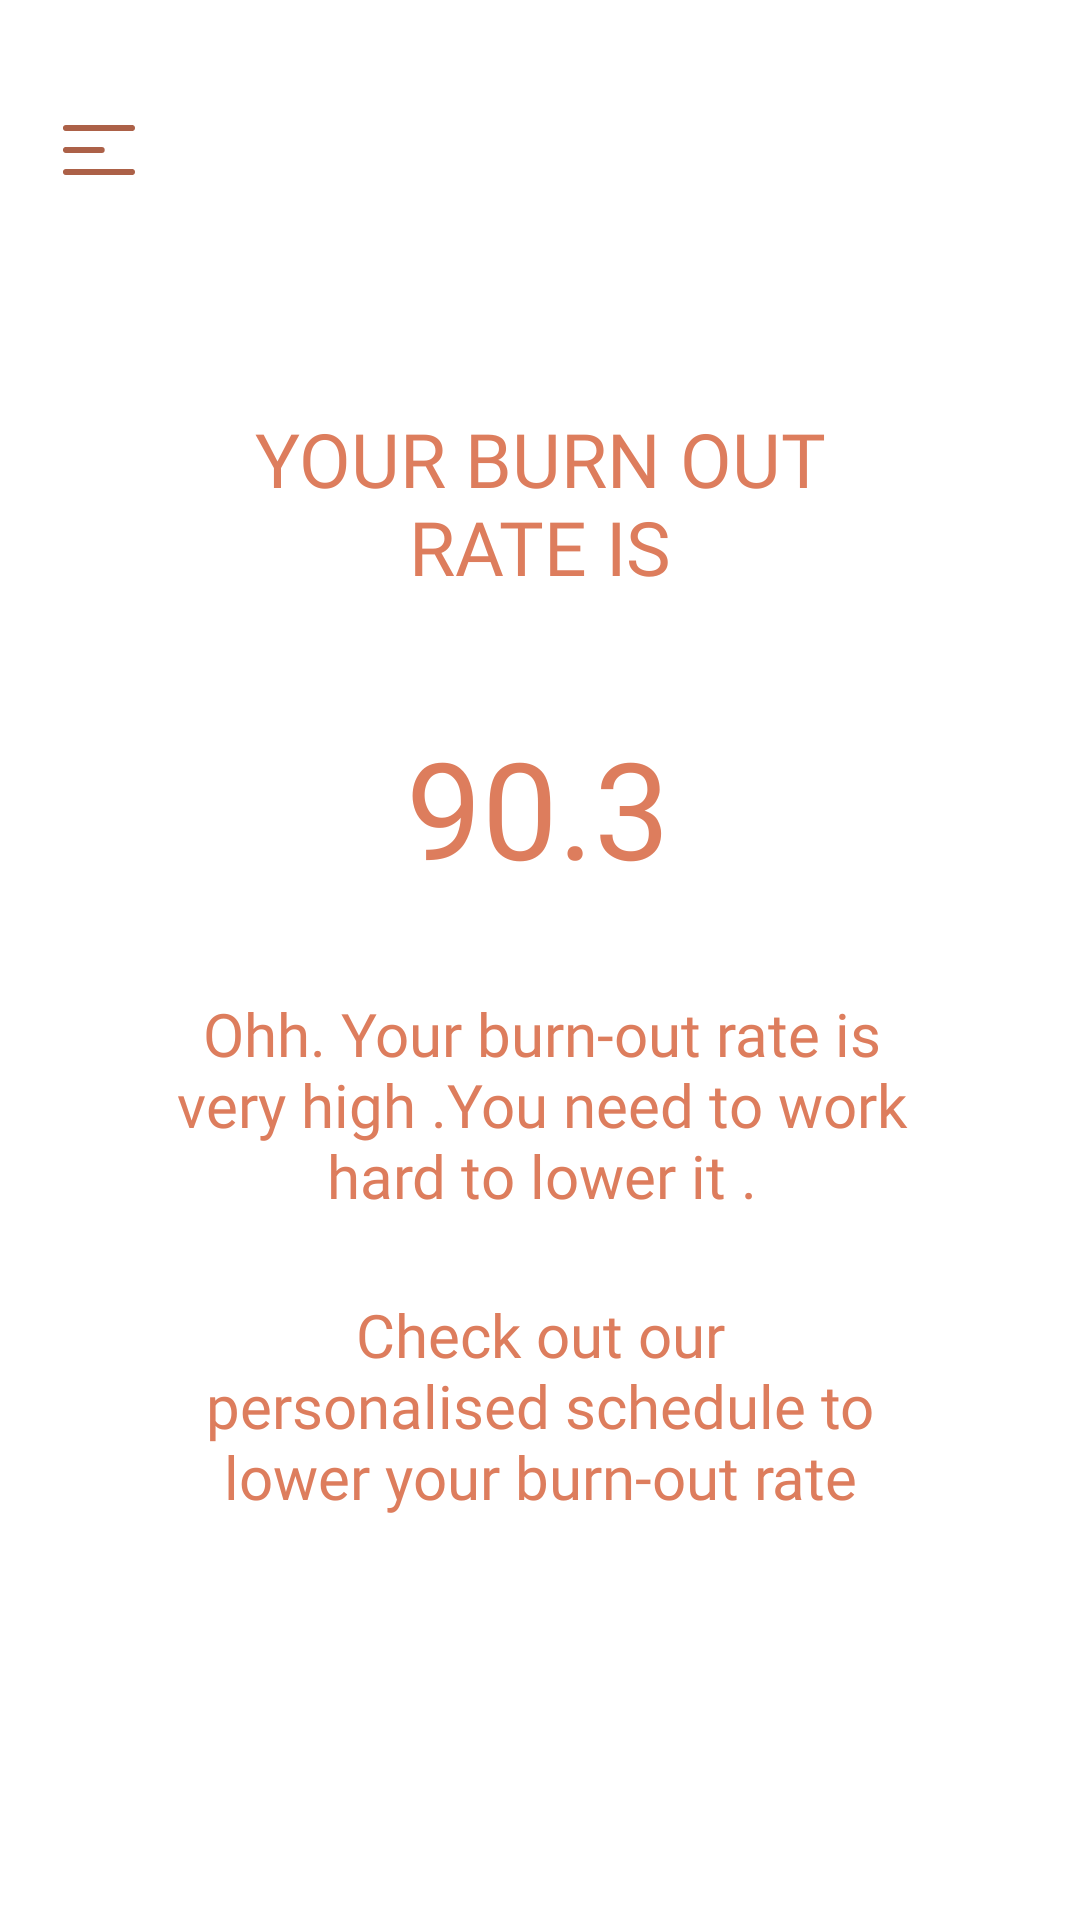

Icons on this 1080 × 1920 Android screen, each with the point to tap as (x=x, y=y):
hamburger: (x=99, y=150)
